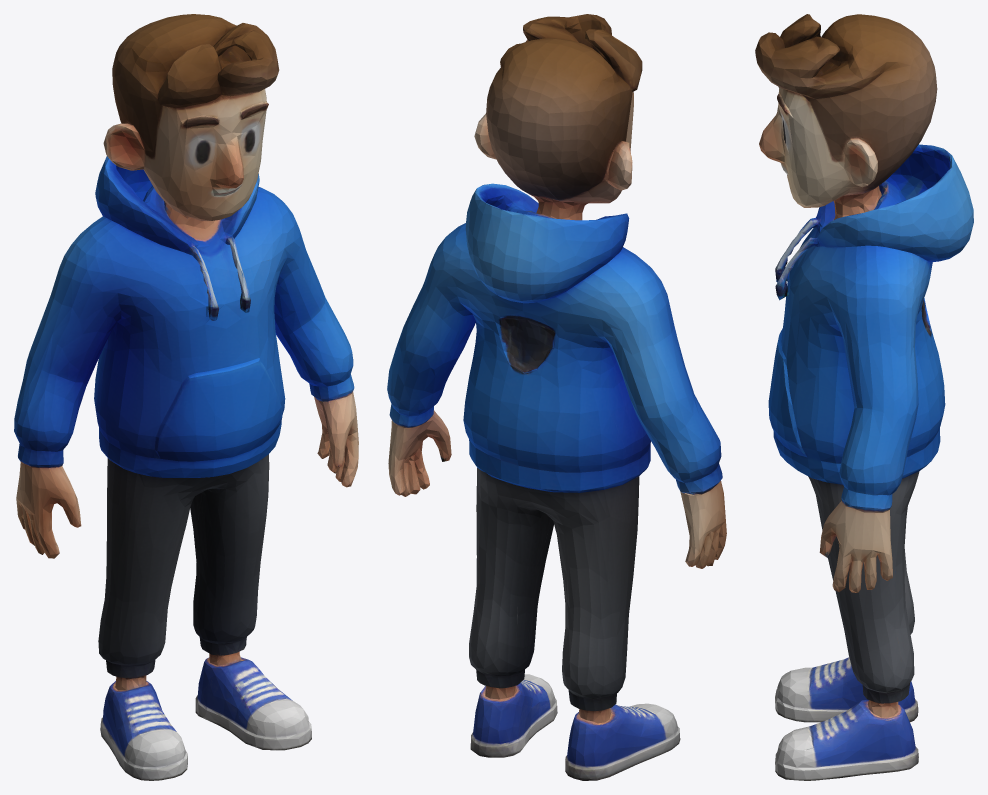
File: player.glb
3 views of the same model, side by side, from view 1: azimuth 30°, elevation 25°; view 2: azimuth 150°, elevation 25°; view 3: azimuth 270°, elevation 25° (orthographic).
Visible parts, largest first — view 1: world; view 2: world; view 3: world.
Part boxes in pixels (left/top/right/bottom): world: left=14, top=14, right=358, bottom=780; world: left=387, top=14, right=726, bottom=780; world: left=755, top=14, right=973, bottom=780.
Bounding box in the file's own units: 0.4844 × 0.9994 × 0.2774.
Materials: 1 (1 with a texture image).
